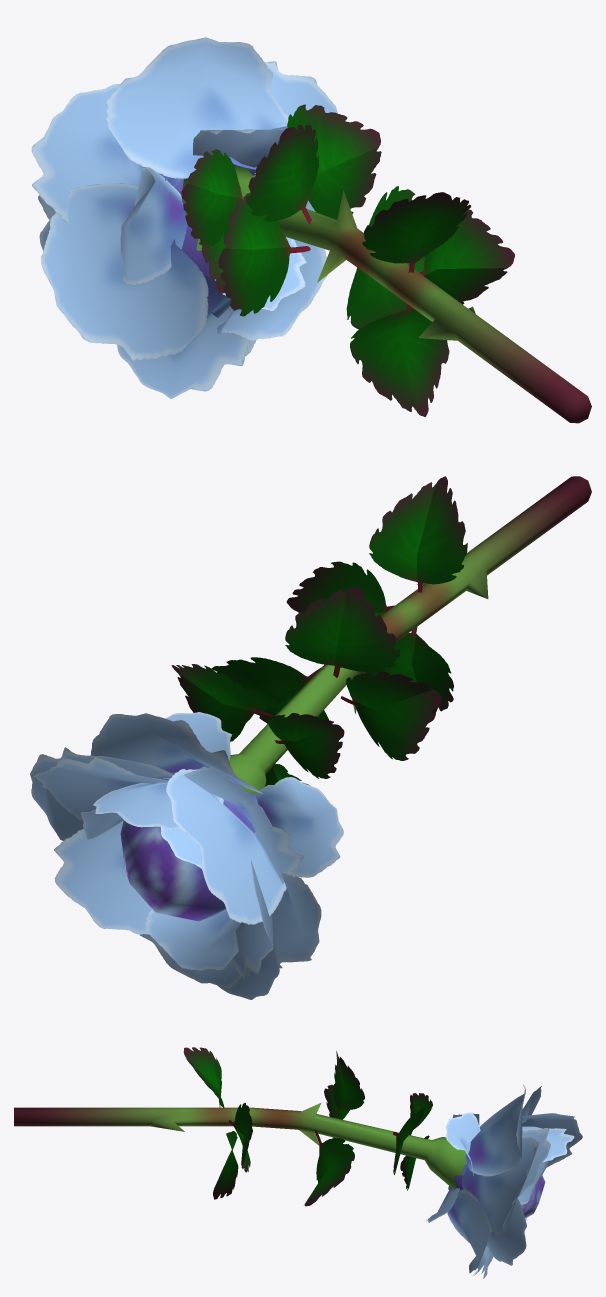
File: SM_Rose_PastellBlue_WideOpen.fbx
3 renders of one model, top to bottom at view 1: azimuth 30°, elevation 25°; view 2: azimuth 150°, elevation 25°; view 3: azimuth 270°, elevation 25°, orthographic. The views are drawn at different scales.
Parts seen in each view (by area): view 1: Rose_PastellBlue_WideOpen; view 2: Rose_PastellBlue_WideOpen; view 3: Rose_PastellBlue_WideOpen.
Boxes of the visible parts, box(x1,y1,x2,y2) form: Rose_PastellBlue_WideOpen: box(31, 37, 591, 423); Rose_PastellBlue_WideOpen: box(30, 476, 591, 999); Rose_PastellBlue_WideOpen: box(14, 1047, 582, 1278).
Bounding box in the file's own units: 52.56 × 59.81 × 130.
